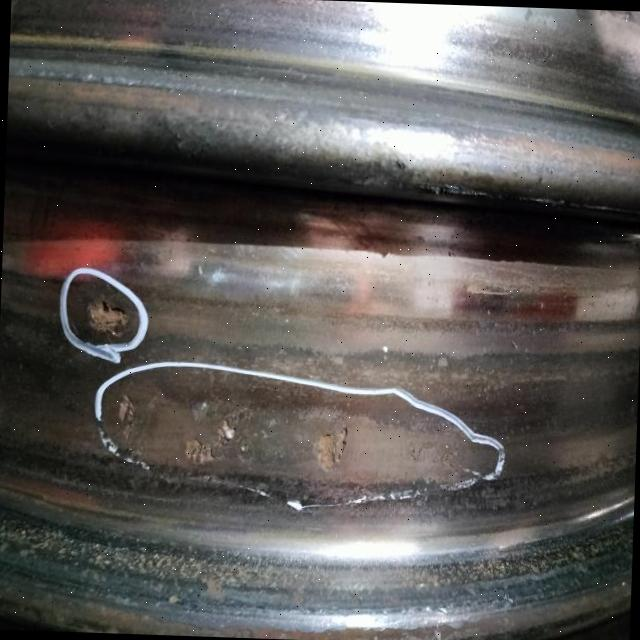Blue hole: (85, 299, 128, 334), (216, 407, 244, 449)
